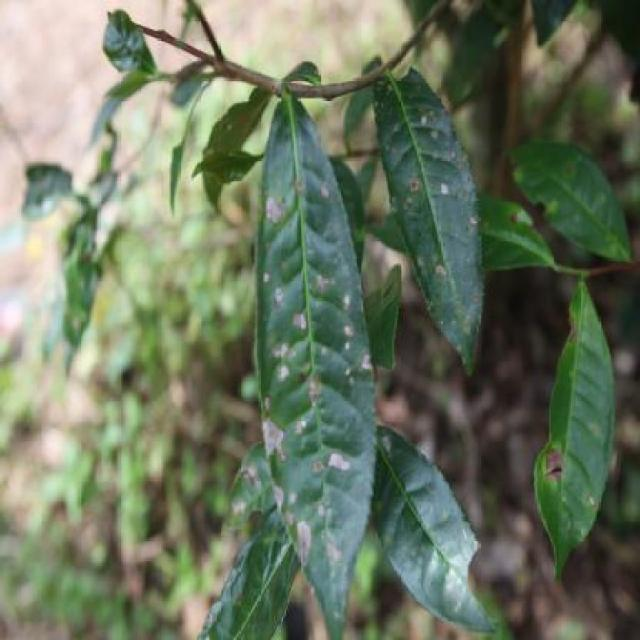Leaf rust of tea: (255, 80, 371, 638), (386, 54, 494, 368)
